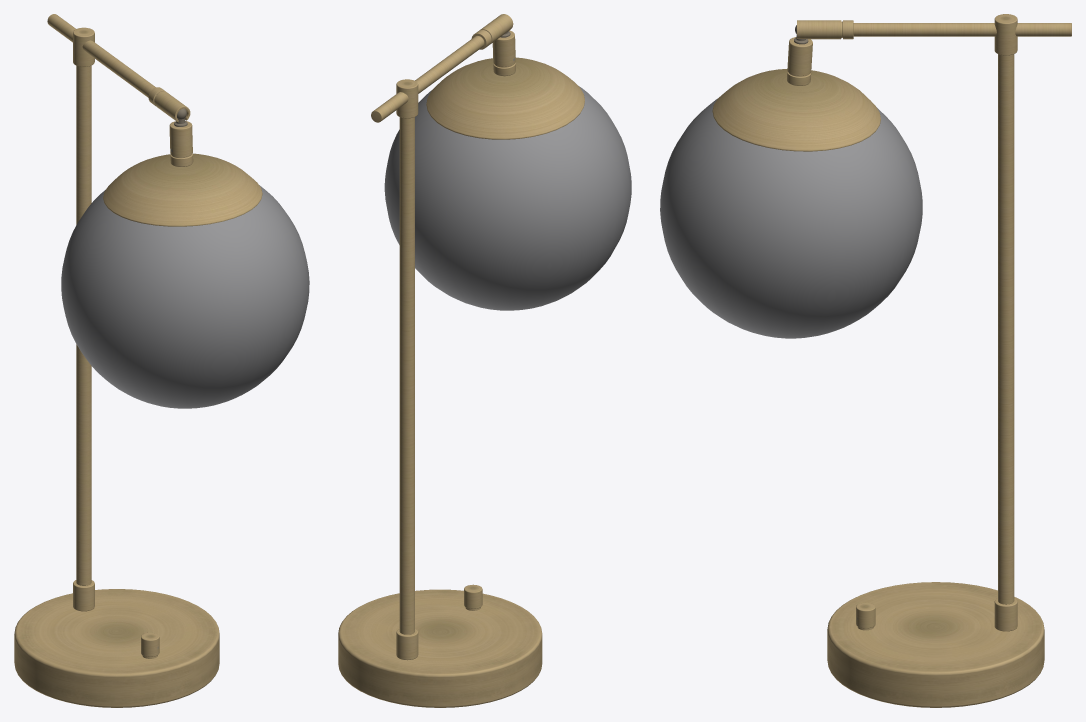
File: plant_B07DTFBDTL.glb
3 views of the same model, side by side, from view 1: azimuth 30°, elevation 25°; view 2: azimuth 150°, elevation 25°; view 3: azimuth 270°, elevation 25° (orthographic). The views are drawn at different scales.
Parts seen in each view (by area): view 1: Root; view 2: Root; view 3: Root.
Boxes of the visible parts, left/top/right/bottom form: Root: left=14, top=14, right=309, bottom=707; Root: left=338, top=14, right=631, bottom=707; Root: left=660, top=14, right=1071, bottom=707.
Bounding box in the file's own units: 0.2065 × 0.5588 × 0.3235.
Materials: 1 (1 with a texture image).
